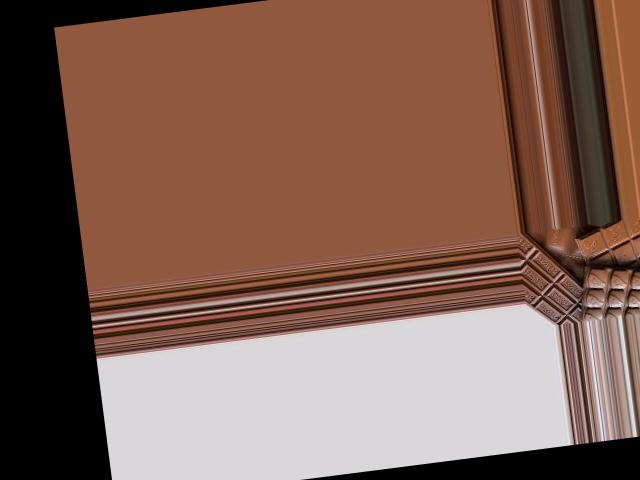chocolate: (575, 222, 640, 287)
